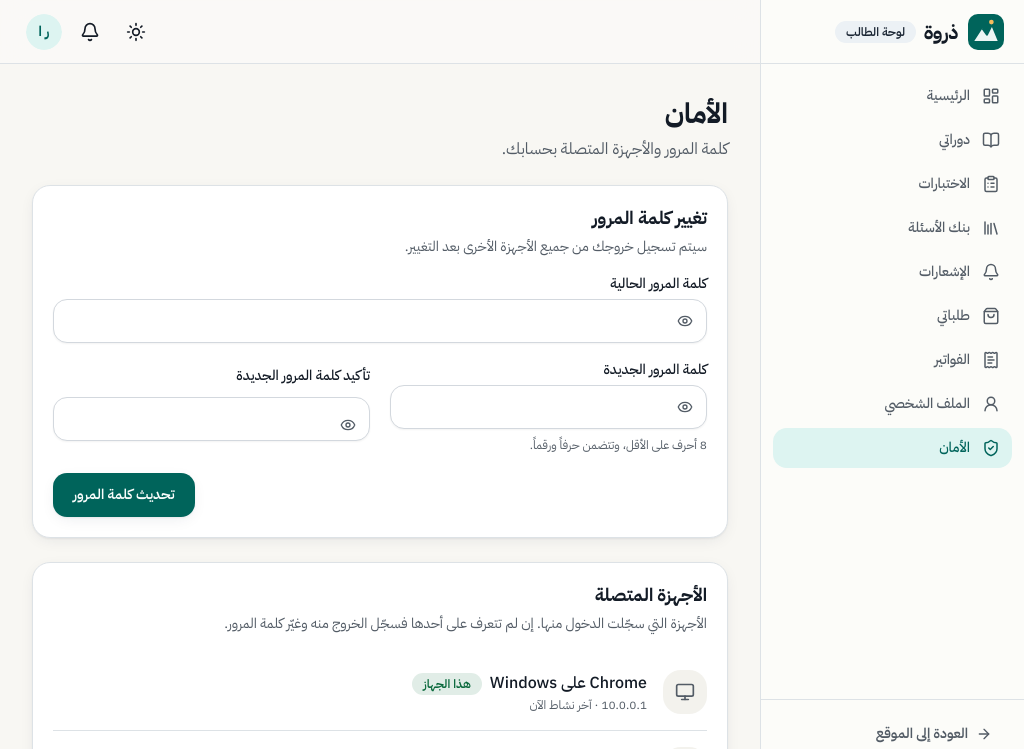
Test: security page › shows a wrong current password on the field
The image size is (1024, 749).
Type "nope1234" into the password field labelled "كلمة المرور الحالية" at (380, 321), box [53,299,707,343]
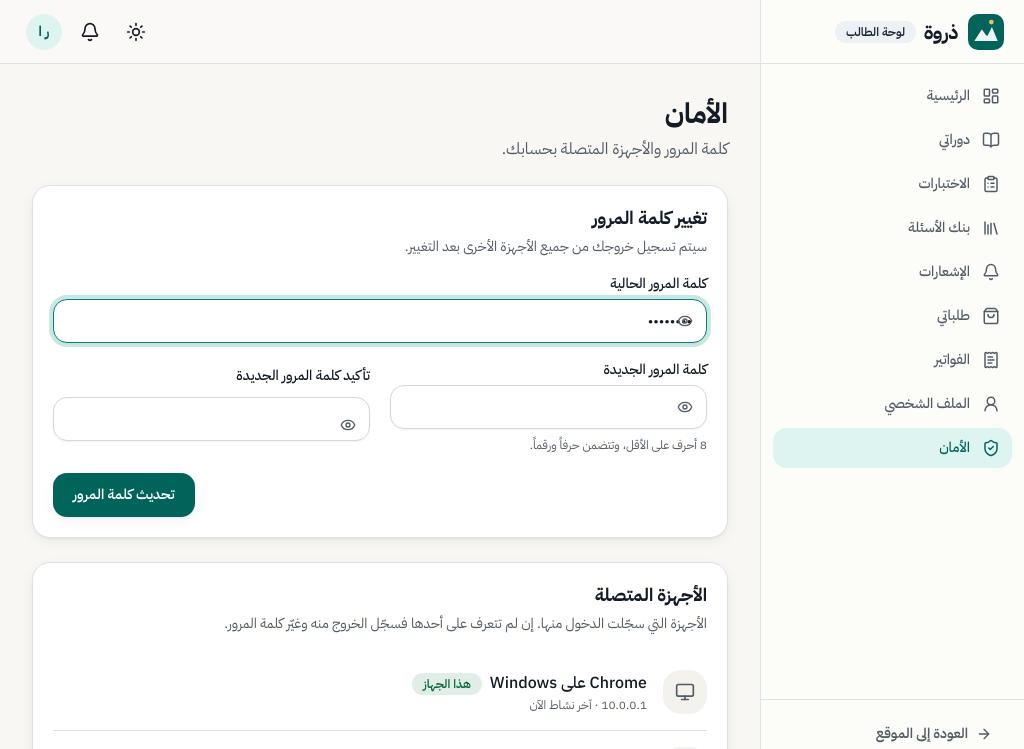
Type "NewSecret1" into the password field labelled "كلمة المرور الجديدة" at (548, 407), box [390,385,707,429]
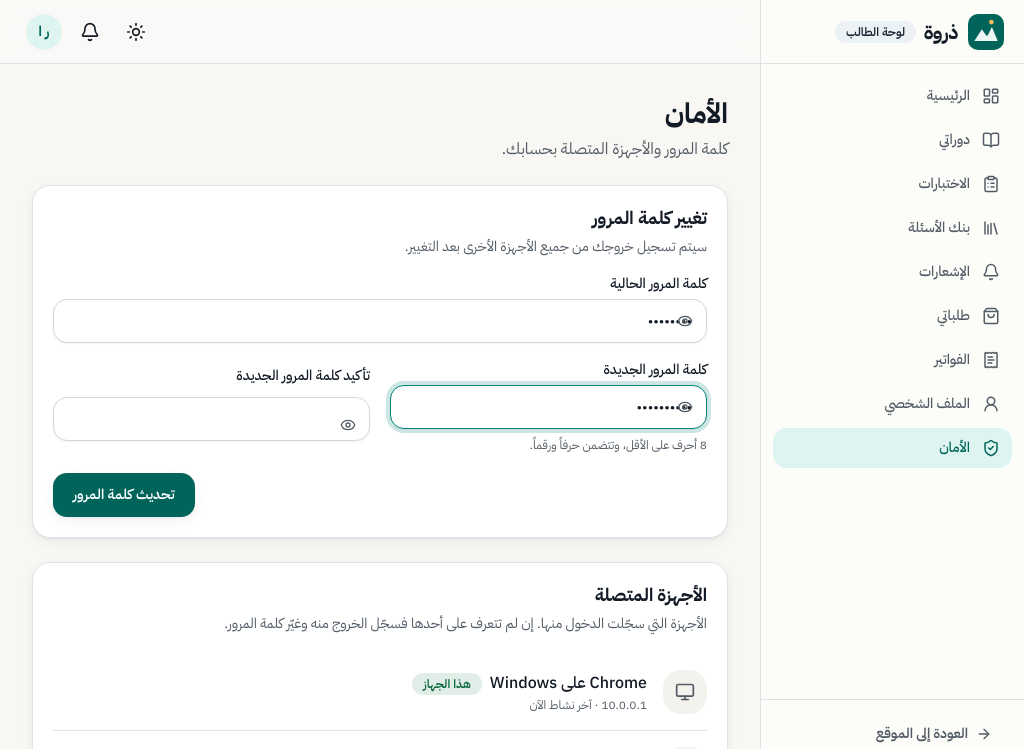
Type "NewSecret1" into the password field labelled "تأكيد كلمة المرور الجديدة" at (212, 419), box [53,397,370,441]
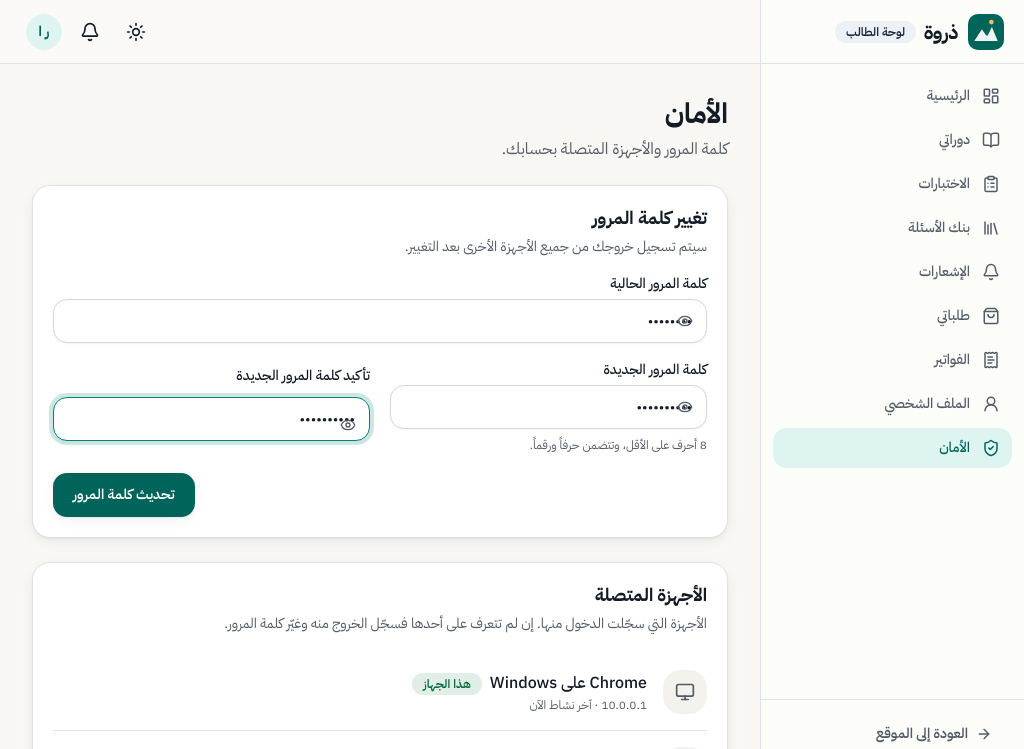
Click the button "تحديث كلمة المرور" at (124, 495), box [53,473,195,517]
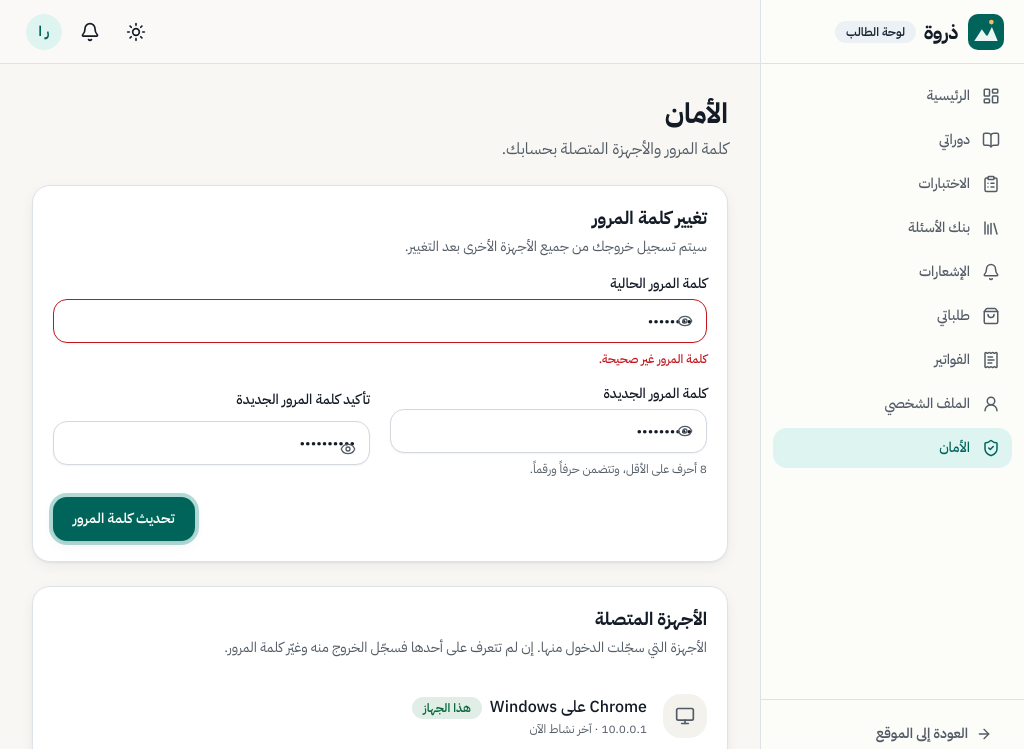
Expected: the text "كلمة المرور غير صحيحة." is shown, [599,350,707,368]
